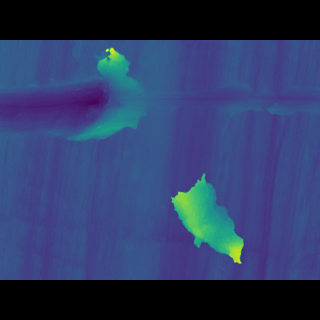Loch: (0, 75, 320, 149), (163, 173, 249, 232)
